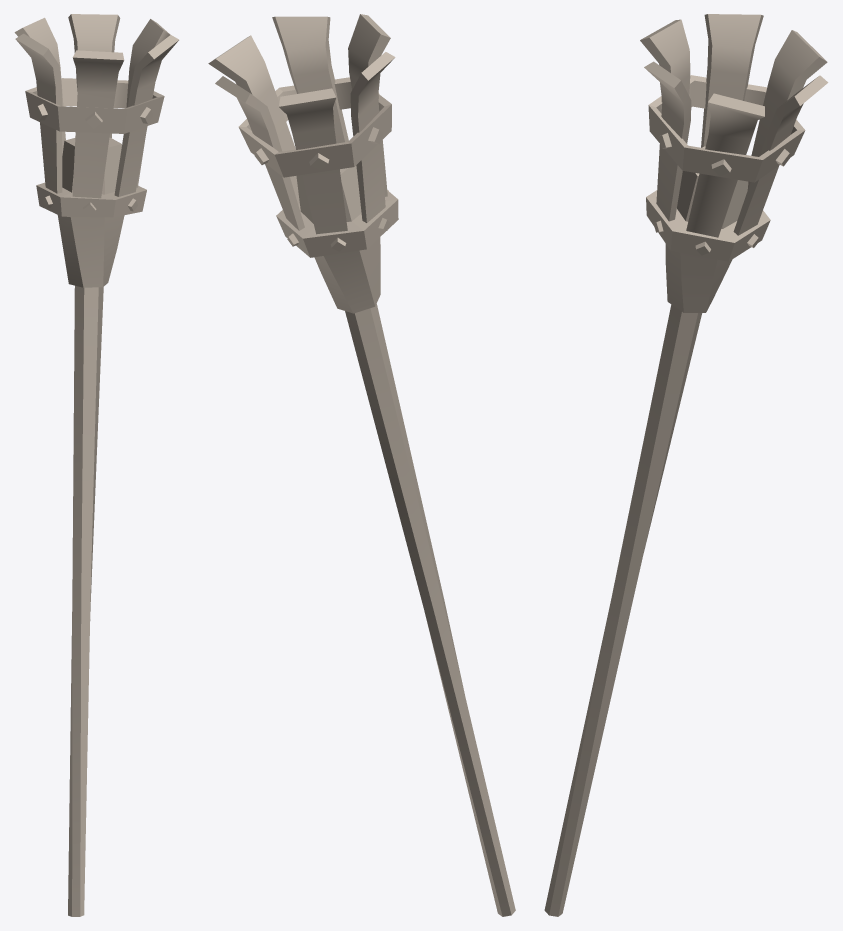
The model's file is torch.gltf.
The picture shows the model from 3 angles, left to right: view 1: azimuth 30°, elevation 25°; view 2: azimuth 150°, elevation 25°; view 3: azimuth 270°, elevation 25°; orthographic projection. The views are drawn at different scales.
Visible parts, largest first — view 1: torch_Cylinder.003; view 2: torch_Cylinder.003; view 3: torch_Cylinder.003.
Boxes of the visible parts, <box> form: torch_Cylinder.003: <box>14,14,178,916</box>; torch_Cylinder.003: <box>208,14,515,916</box>; torch_Cylinder.003: <box>544,14,828,916</box>.
Size of the model in its own units: 0.5131 by 2.21 by 0.6148.
